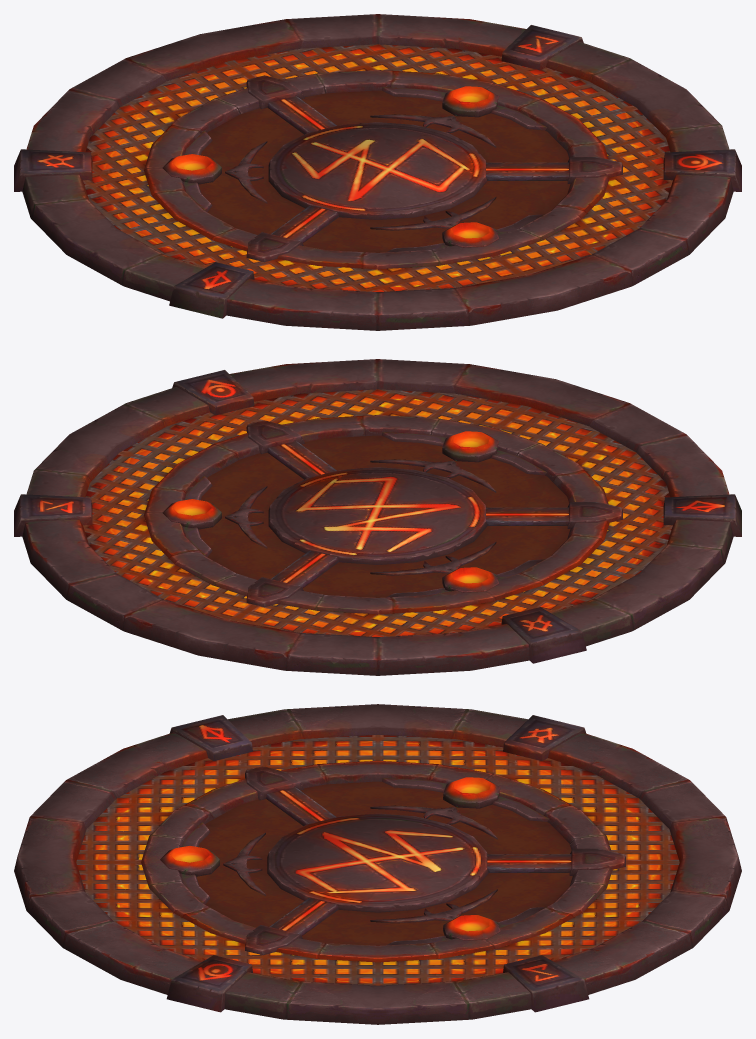
The model's file is jitan_01.fbx.
The picture shows the model from 3 angles, top to bottom: view 1: azimuth 30°, elevation 25°; view 2: azimuth 150°, elevation 25°; view 3: azimuth 270°, elevation 25°; orthographic projection.
Visible parts, largest first — view 1: polySurface2; view 2: polySurface2; view 3: polySurface2.
Part boxes in pixels (box(x1,y1,x2,y2)): polySurface2: box(14, 14, 741, 330); polySurface2: box(14, 359, 741, 675); polySurface2: box(14, 704, 741, 1024).
Size of the model in its own units: 1846 by 48.94 by 1846.
